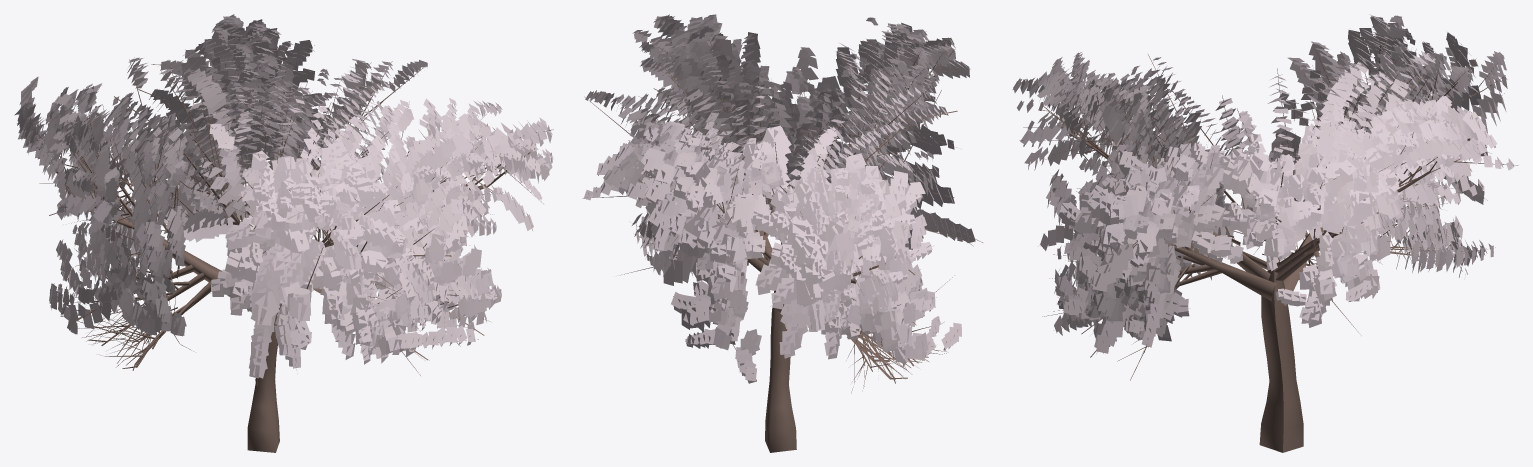
Rendered from sakura-natural-leaning.glb.
3 renders of one model, left to right at view 1: azimuth 30°, elevation 25°; view 2: azimuth 150°, elevation 25°; view 3: azimuth 270°, elevation 25°, orthographic. The views are drawn at different scales.
Size of the model in its own units: 10.9 by 9.2 by 11.41.
